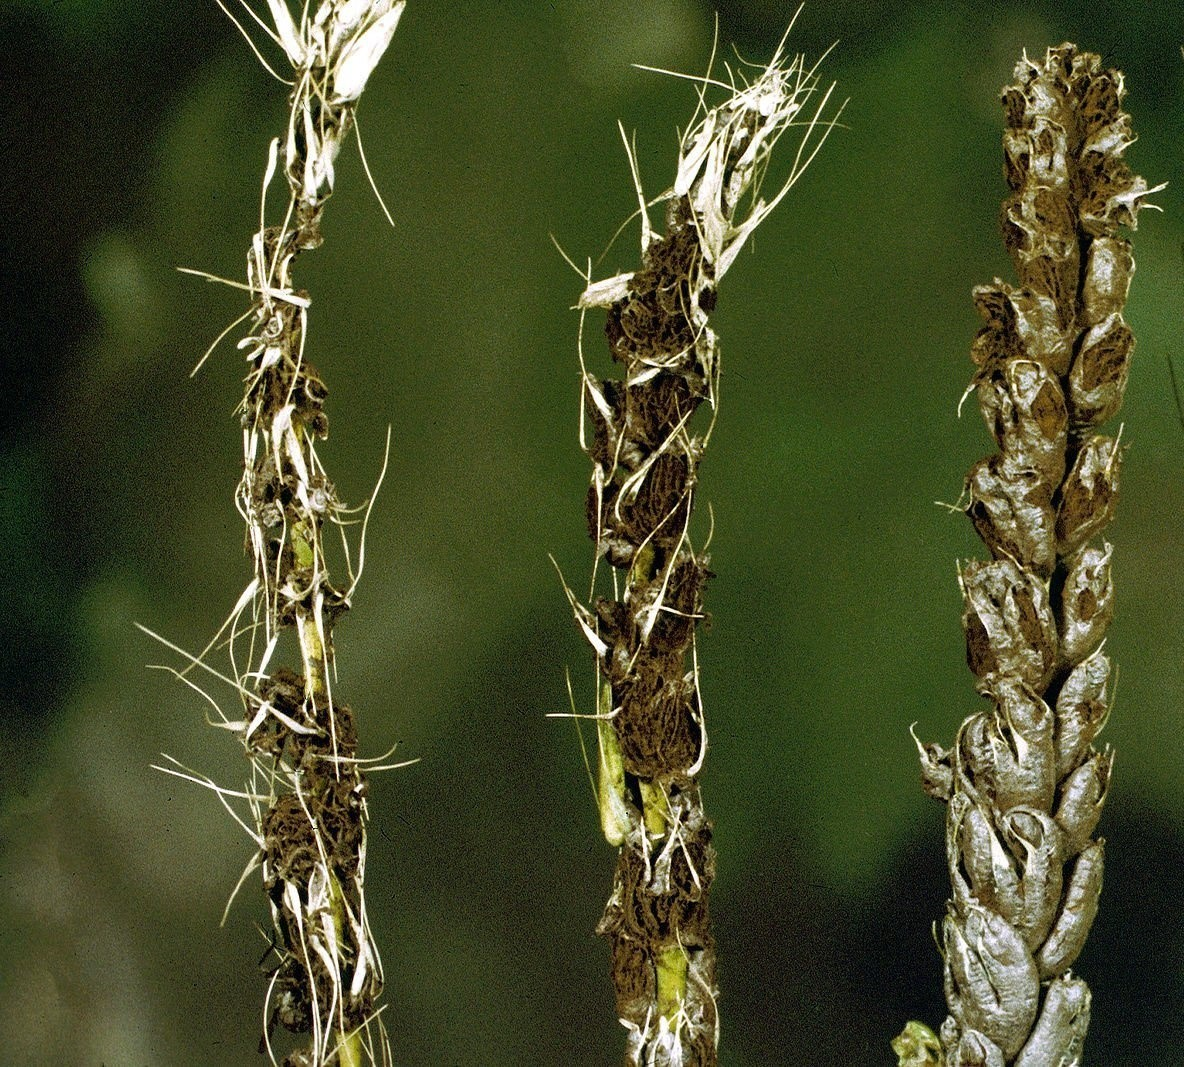Wheat Loose Smut: (913, 39, 1160, 1062), (555, 64, 783, 1034)
